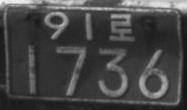1: (18, 44, 46, 93), (77, 12, 101, 41)
3: (97, 46, 129, 99)
6: (138, 49, 170, 100)
7: (55, 44, 88, 96)
9: (44, 11, 70, 39)
로: (109, 12, 135, 42)
